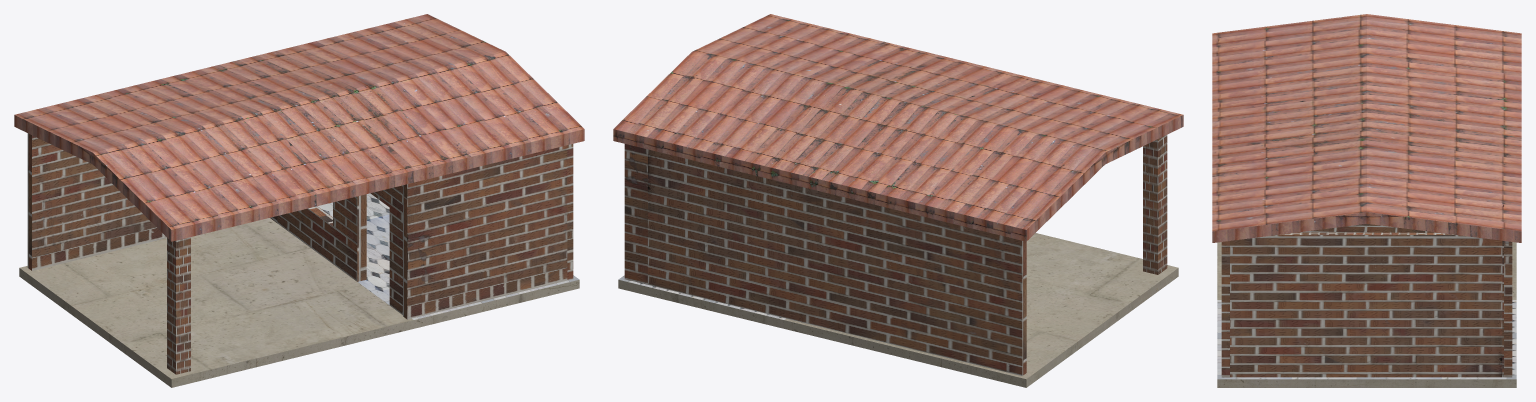
Rendered from Barracao1.obj.
3 renders of one model, left to right at view 1: azimuth 30°, elevation 25°; view 2: azimuth 150°, elevation 25°; view 3: azimuth 270°, elevation 25°, orthographic.
Parts seen in each view (by area): view 1: Barracao_Cube; view 2: Barracao_Cube; view 3: Barracao_Cube.
Part boxes in pixels (box(x1,y1,x2,y2)): Barracao_Cube: box(14, 14, 584, 387); Barracao_Cube: box(613, 14, 1183, 387); Barracao_Cube: box(1212, 14, 1521, 387).
Bounding box in the file's own units: 22.9 × 9.54 × 15.09.
Materials: 5 (4 with a texture image).
